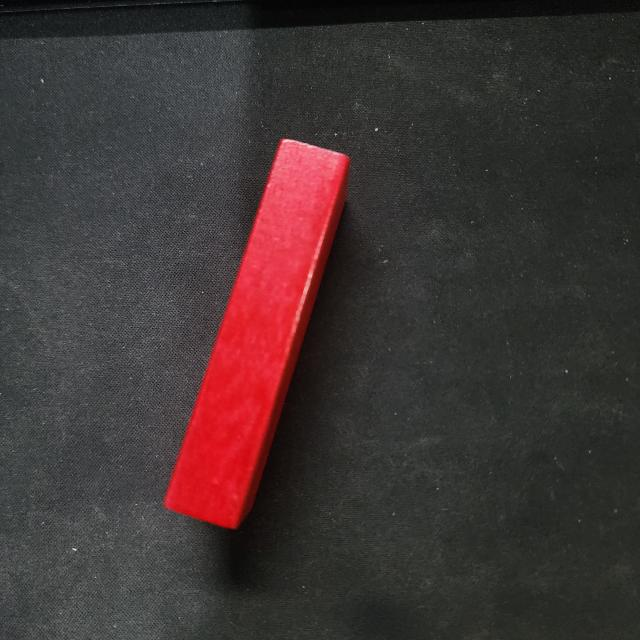red: (163, 134, 360, 532)
